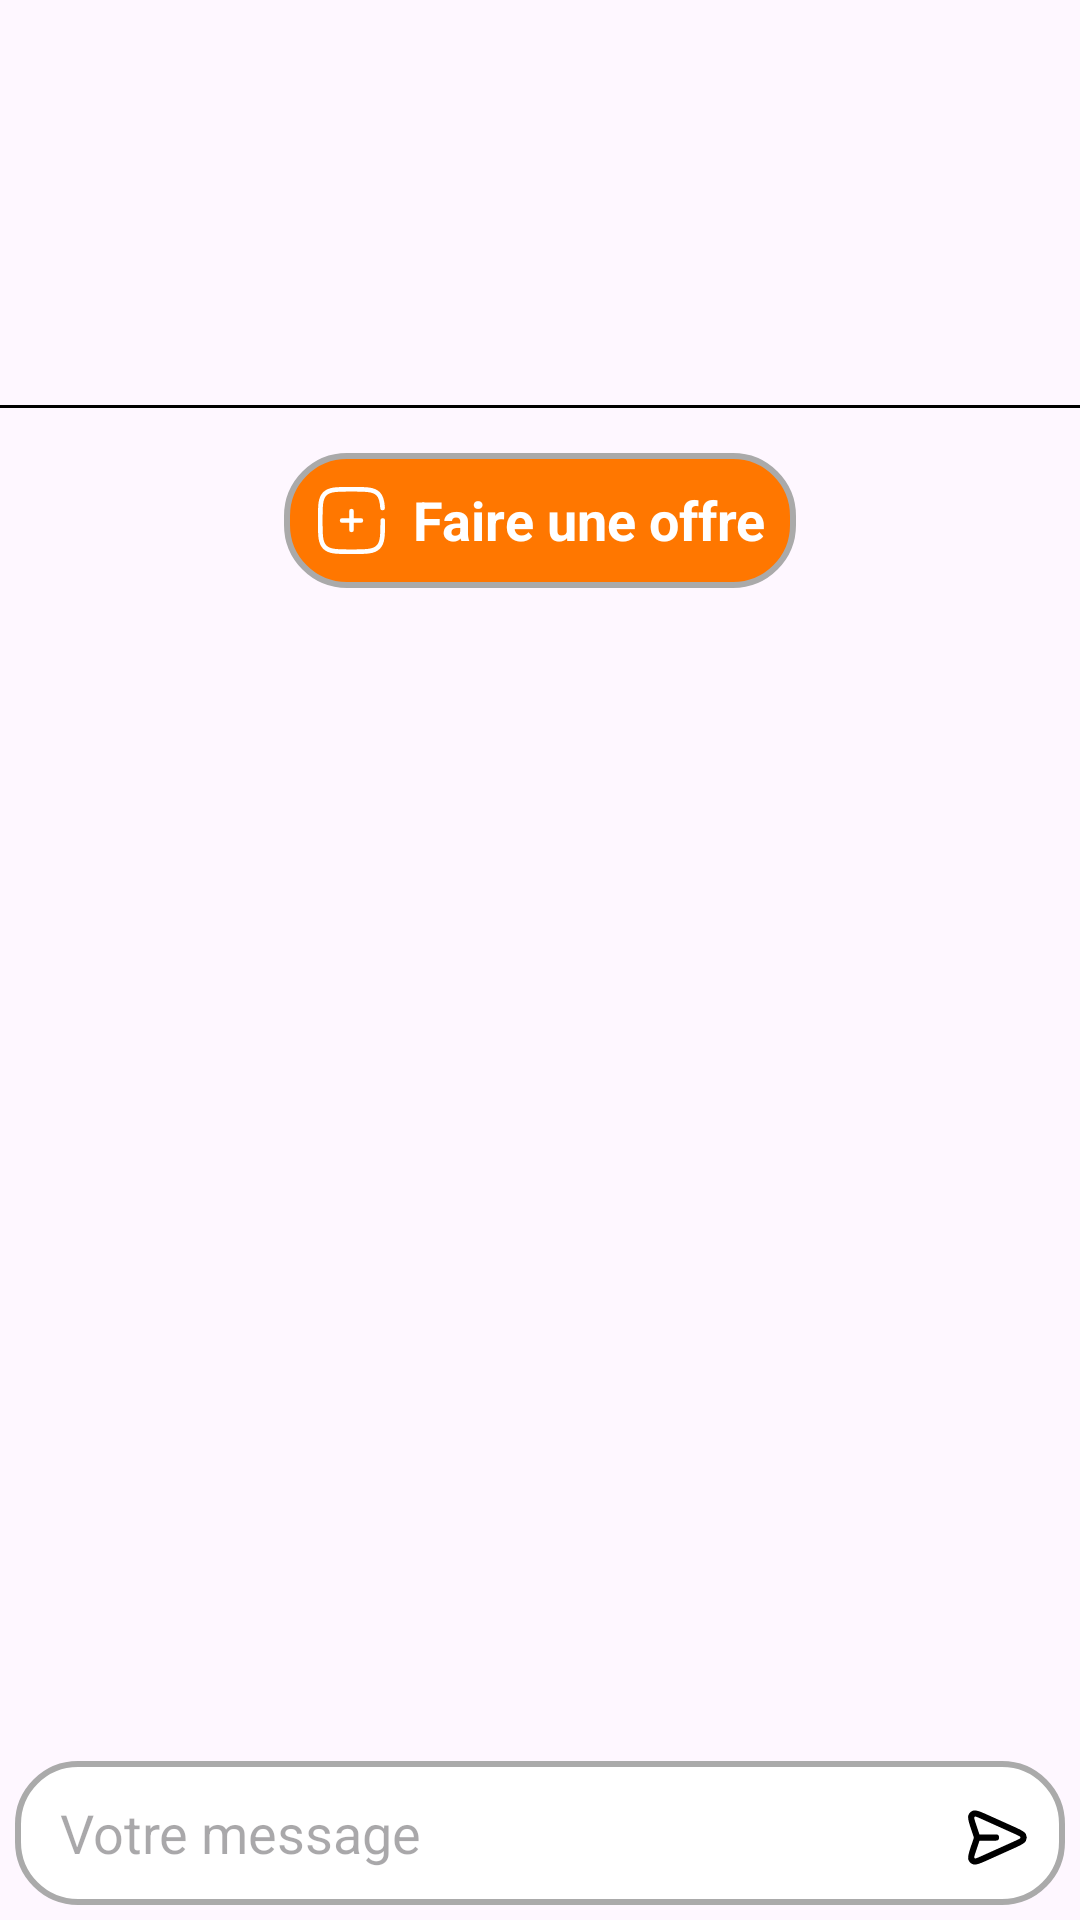

Named icons in this screenshot (1080 × 1920) and their centers, [x,y]:
SEND MESSAGE: [997,1837]
